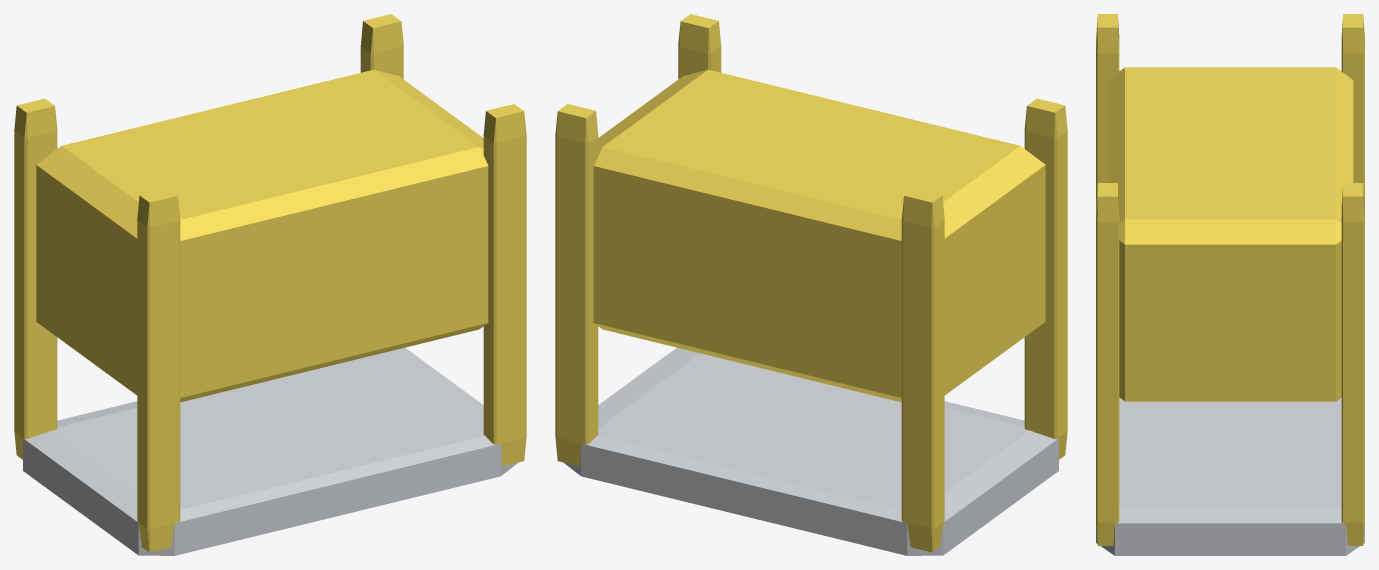
The model's file is b07_bridge_style_wet_tile_saw.glb.
3 views of the same model, side by side, from view 1: azimuth 30°, elevation 25°; view 2: azimuth 150°, elevation 25°; view 3: azimuth 270°, elevation 25° (orthographic).
Visible parts, largest first — view 1: b07_bridge_style_wet_tile_saw; view 2: b07_bridge_style_wet_tile_saw; view 3: b07_bridge_style_wet_tile_saw.
Part boxes in pixels (<box>): b07_bridge_style_wet_tile_saw: <box>14,14,526,555</box>; b07_bridge_style_wet_tile_saw: <box>555,14,1067,555</box>; b07_bridge_style_wet_tile_saw: <box>1096,14,1364,555</box>.
Bounding box in the file's own units: 1.62 × 1.47 × 0.995.
